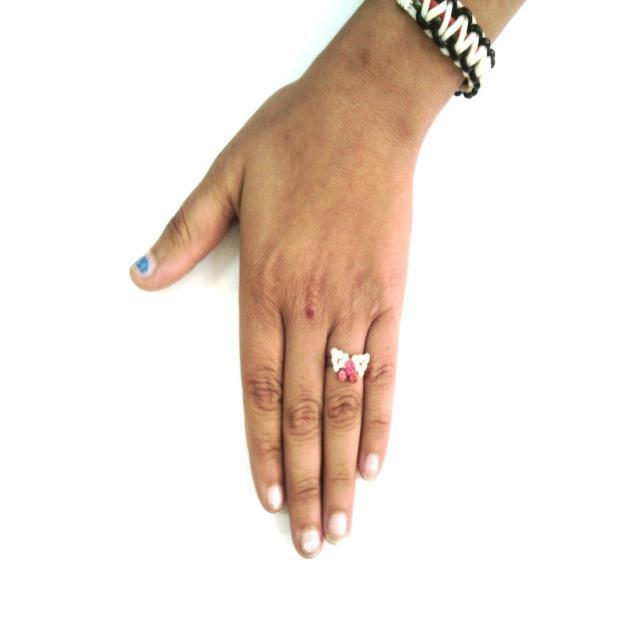Fingernail: (328, 511, 347, 543), (133, 252, 156, 277), (300, 526, 319, 555), (267, 484, 283, 510), (363, 454, 378, 479)
